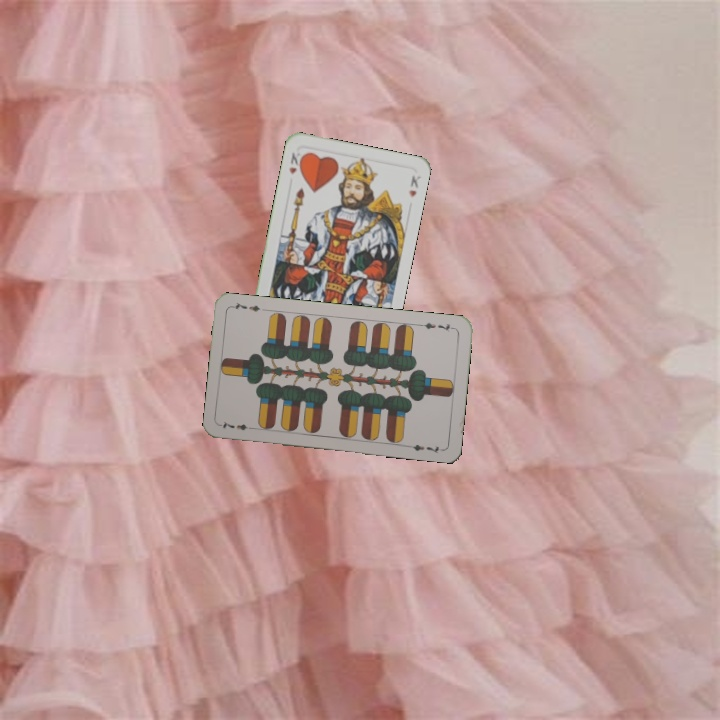E7: (416, 318, 457, 334), (217, 417, 258, 433)
HK: (285, 148, 306, 177)
